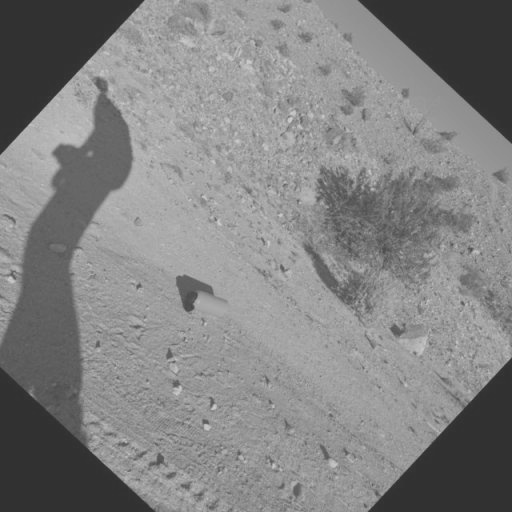bottle: (176, 276, 232, 332)
mallet: (361, 328, 401, 366)
